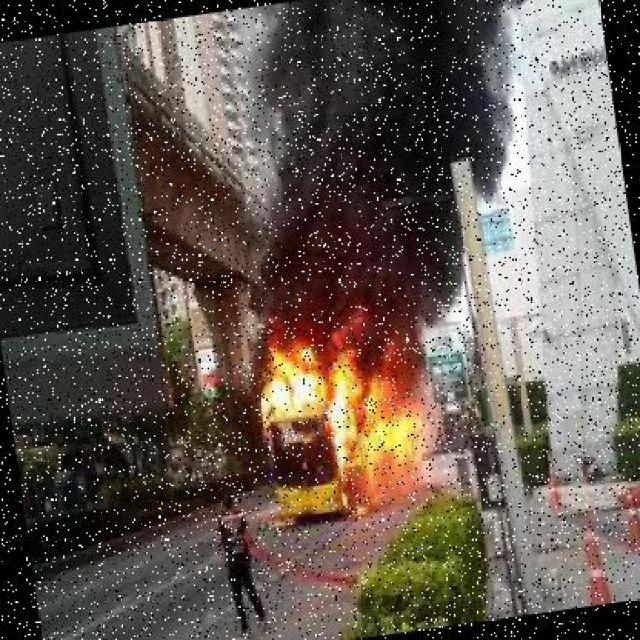fire: (234, 292, 435, 520)
